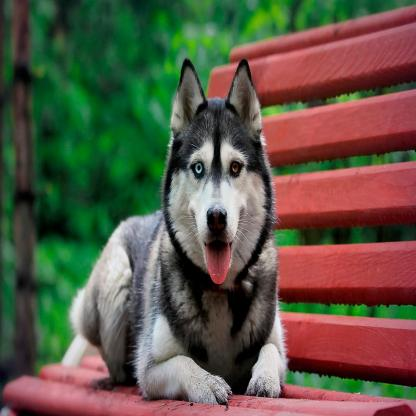husky: (63, 52, 287, 400)
